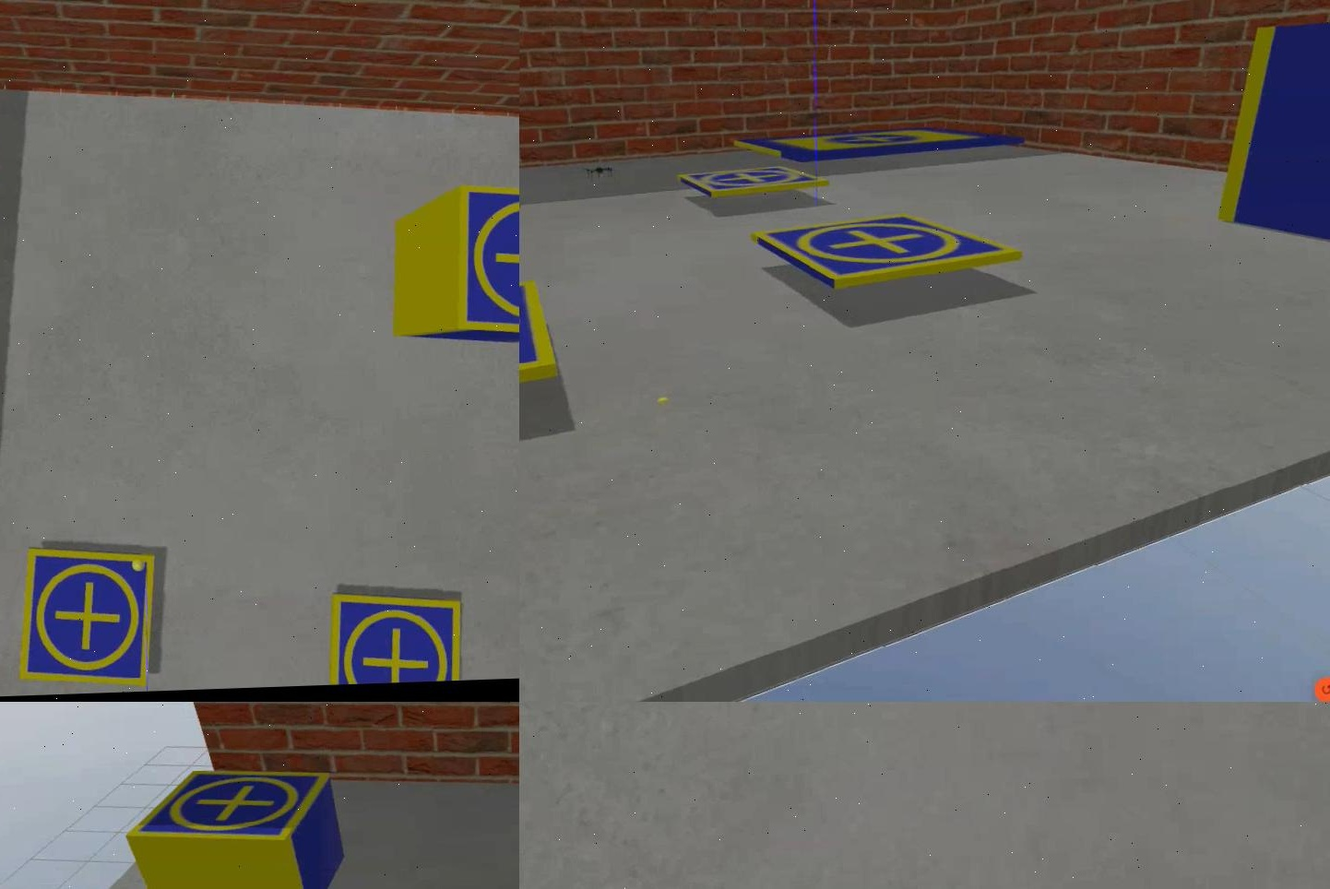large_base: (730, 122, 1023, 172)
small_base: (745, 210, 1017, 297), (16, 543, 162, 691), (122, 771, 331, 847), (328, 587, 463, 687), (455, 183, 517, 343), (674, 160, 826, 207)
